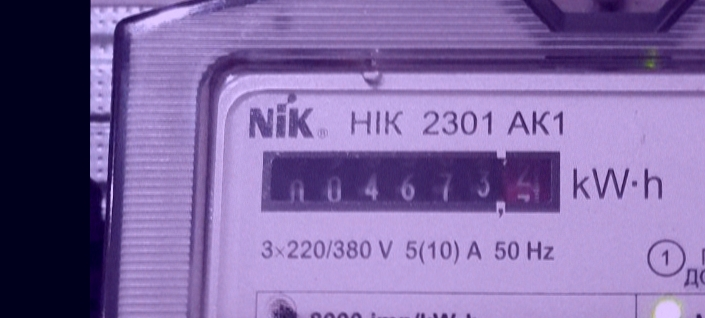0: (285, 175, 305, 205), (323, 173, 341, 204)
2: (512, 158, 532, 190)
3: (473, 167, 490, 201)
4: (361, 169, 379, 204)
6: (395, 169, 416, 204)
7: (433, 170, 455, 207)
screen: (255, 146, 564, 223)
